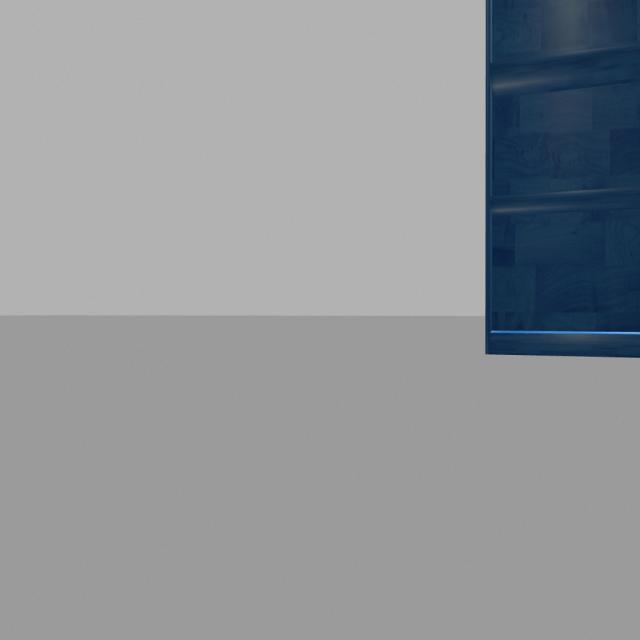shelf: (472, 0, 640, 379)
